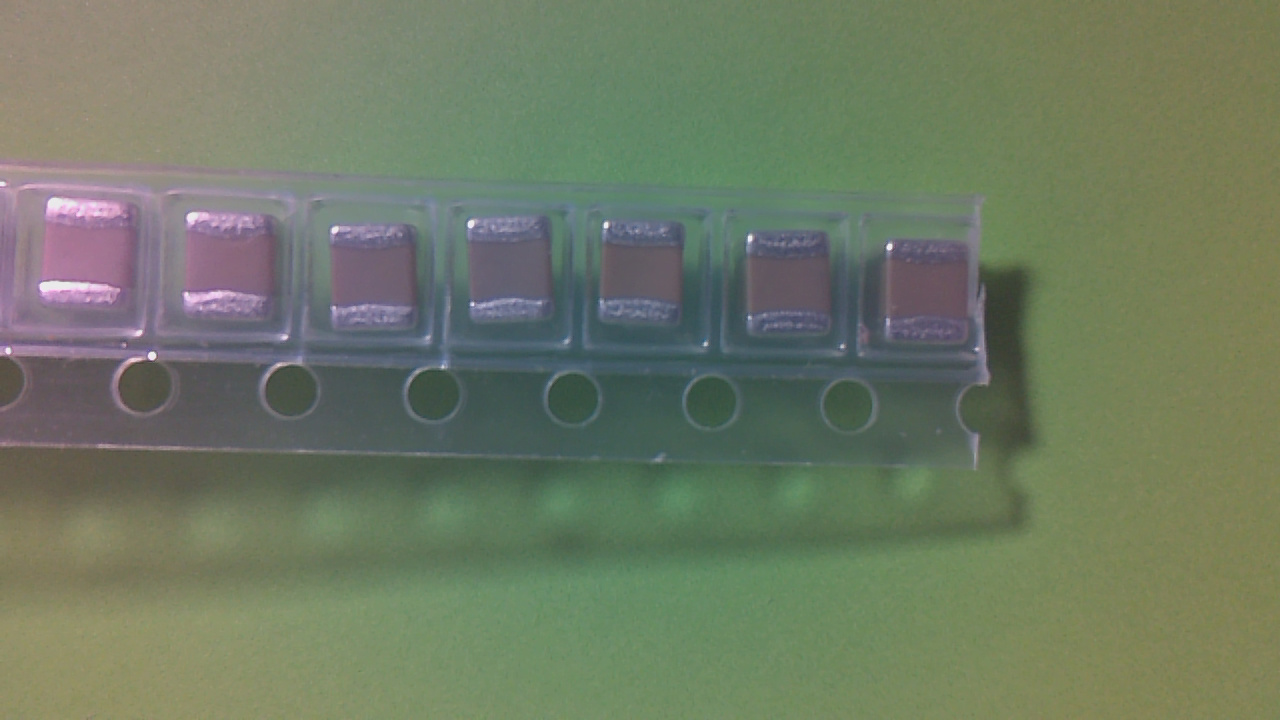Condensator: (40, 206, 141, 316), (184, 217, 282, 328), (335, 227, 423, 338), (752, 236, 839, 344), (607, 224, 694, 332), (475, 221, 560, 327), (892, 243, 976, 349)
